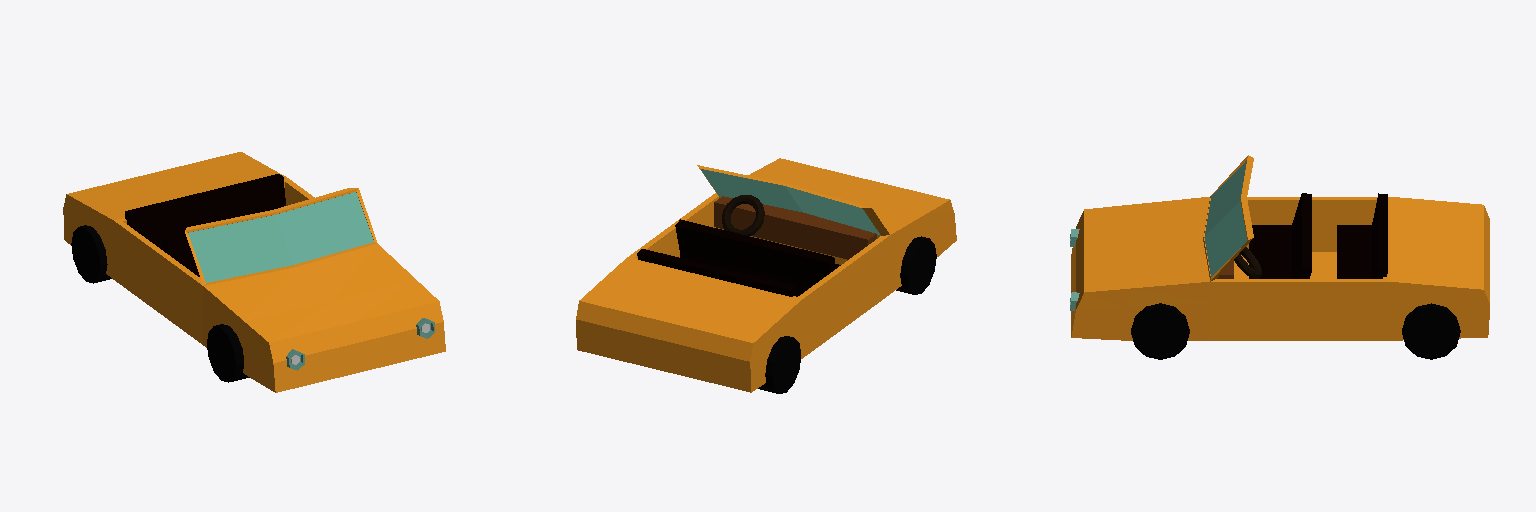
File: car.obj
The picture shows the model from 3 angles: view 1: azimuth 30°, elevation 25°; view 2: azimuth 150°, elevation 25°; view 3: azimuth 270°, elevation 25°; orthographic projection.
Visible parts, largest first — view 1: Torus.001; view 2: Torus.001; view 3: Torus.001.
Part boxes in pixels (bbox=[...]): Torus.001: bbox=[63, 152, 445, 392]; Torus.001: bbox=[576, 158, 956, 393]; Torus.001: bbox=[1070, 155, 1489, 359].
Bounding box in the file's own units: 2.17 × 1.27 × 4.18.